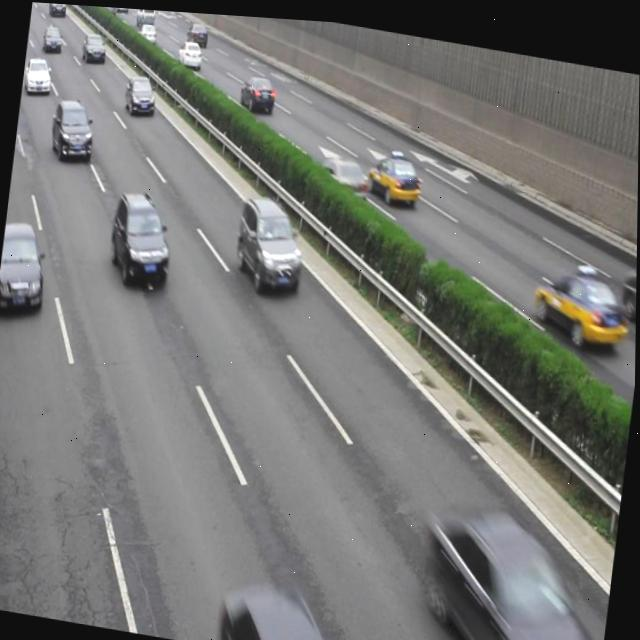car: (419, 495, 592, 640), (528, 253, 629, 348), (232, 187, 309, 293), (105, 187, 177, 294), (0, 219, 48, 319), (367, 145, 424, 207), (315, 144, 372, 204), (49, 94, 96, 165), (239, 68, 278, 115), (123, 69, 158, 120)
truck: (618, 243, 638, 318)
